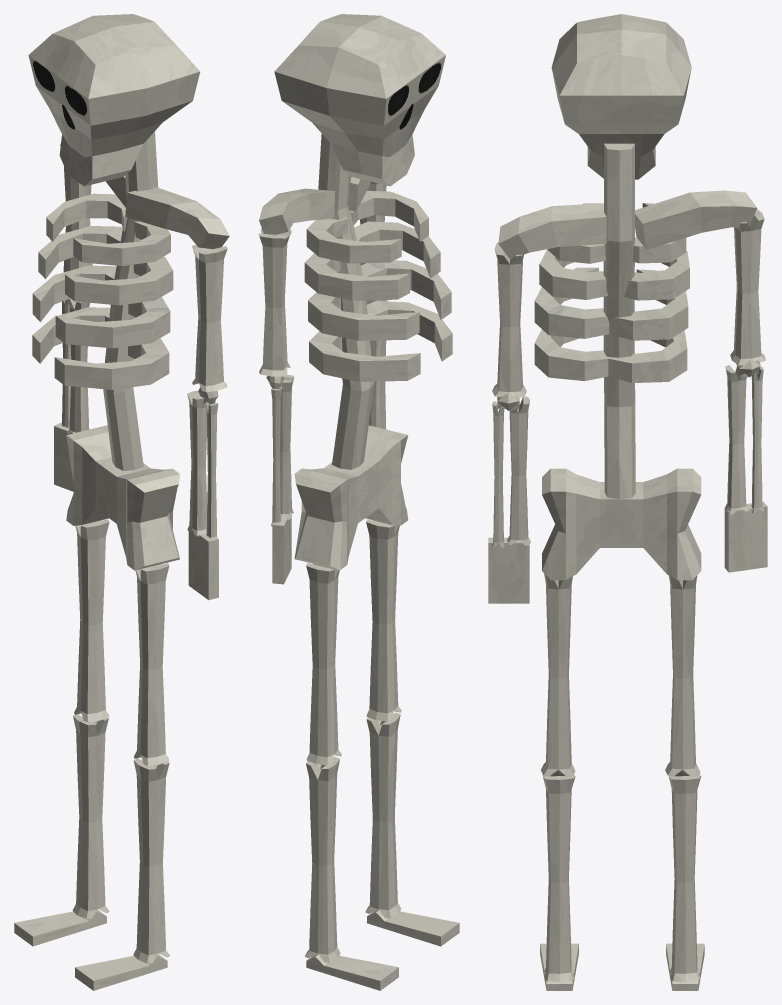
File: skeleton.fbx
3 renders of one model, left to right at view 1: azimuth 30°, elevation 25°; view 2: azimuth 150°, elevation 25°; view 3: azimuth 270°, elevation 25°, orthographic. The views are drawn at different scales.
Parts seen in each view (by area): view 1: Cube; view 2: Cube; view 3: Cube.
Part boxes in pixels (x1,y1,x2,y2): Cube: (14,14,229,990); Cube: (258,14,459,990); Cube: (488,14,767,990).
Bounding box in the file's own units: 356 × 2460 × 651.
2 materials, 2 textured.
